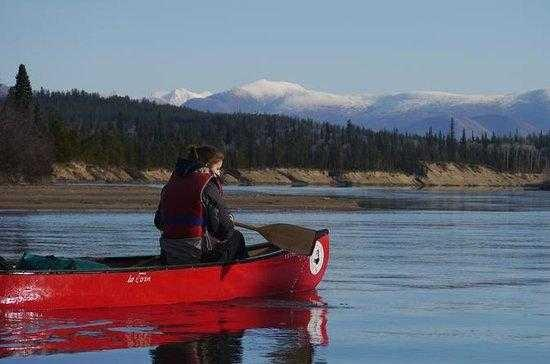kayak: (2, 222, 332, 310)
